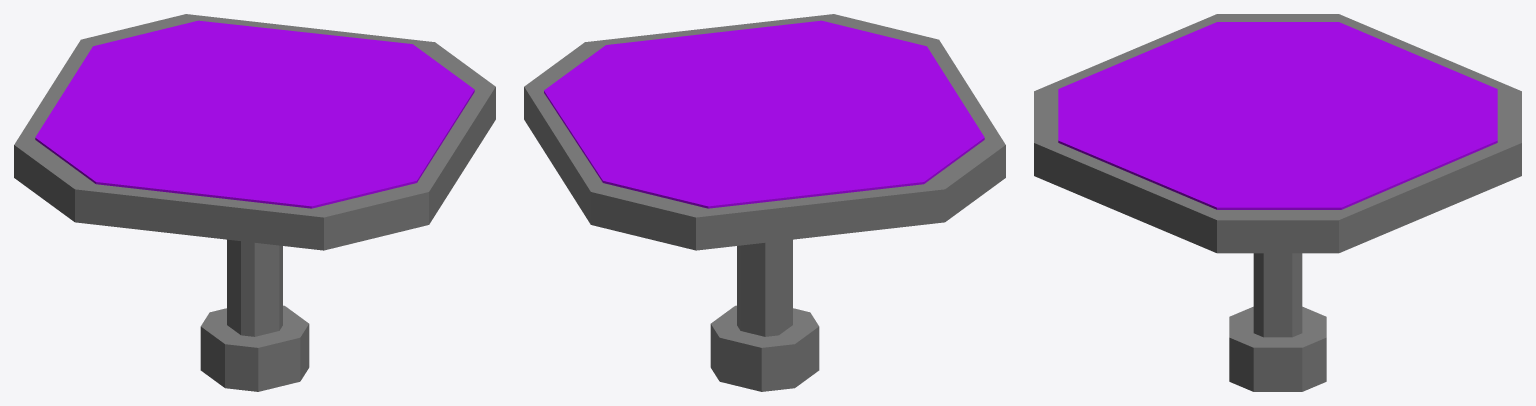
Rendered from table.fbx.
3 renders of one model, left to right at view 1: azimuth 30°, elevation 25°; view 2: azimuth 150°, elevation 25°; view 3: azimuth 270°, elevation 25°, orthographic.
Visible parts, largest first — view 1: Cube.001, Cube; view 2: Cube.001, Cube; view 3: Cube.001, Cube.
Part boxes in pixels (box(x1,y1,x2,y2)): Cube.001: box(35, 20, 474, 208); Cube: box(14, 14, 495, 391); Cube.001: box(544, 20, 984, 208); Cube: box(524, 14, 1005, 391); Cube.001: box(1058, 22, 1497, 209); Cube: box(1034, 14, 1521, 391).
Size of the model in its own units: 500 by 290 by 500.
